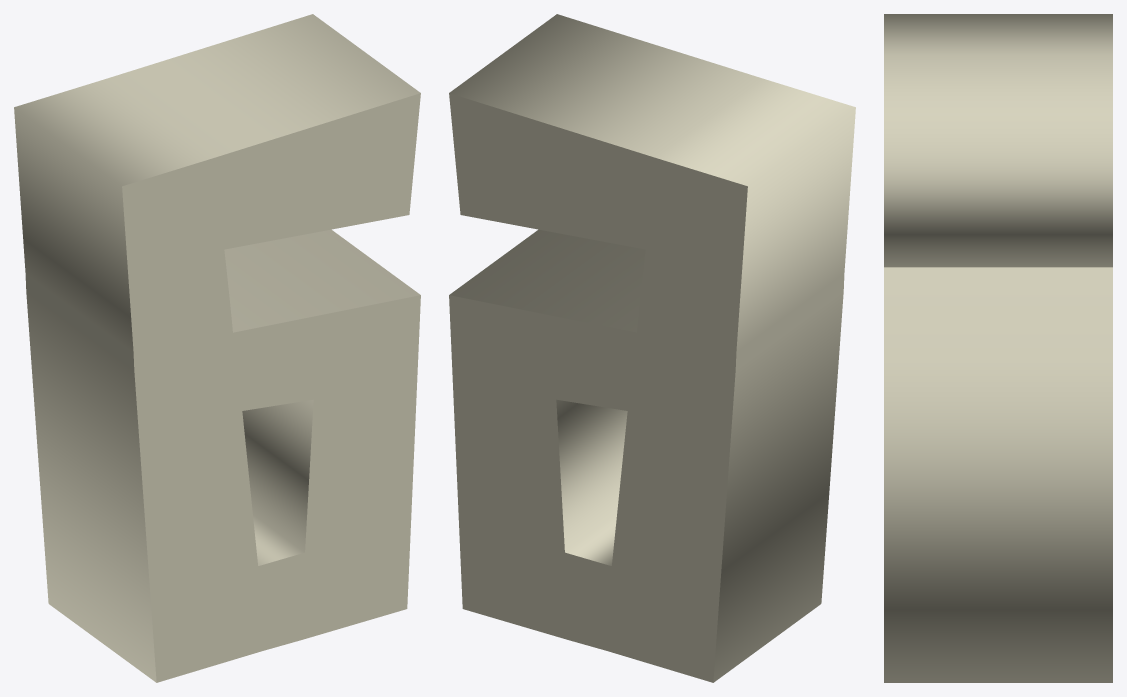
Rendered from Angka6.fbx.
3 renders of one model, left to right at view 1: azimuth 30°, elevation 25°; view 2: azimuth 150°, elevation 25°; view 3: azimuth 270°, elevation 25°, orthographic. The views are drawn at different scales.
Visible parts, largest first — view 1: M-angka1.003; view 2: M-angka1.003; view 3: M-angka1.003.
Boxes of the visible parts, x1,y1,x2,y2 form: M-angka1.003: [14, 14, 420, 682]; M-angka1.003: [449, 14, 855, 682]; M-angka1.003: [884, 14, 1112, 682].
Size of the model in its own units: 47.92 by 80.48 by 30.
